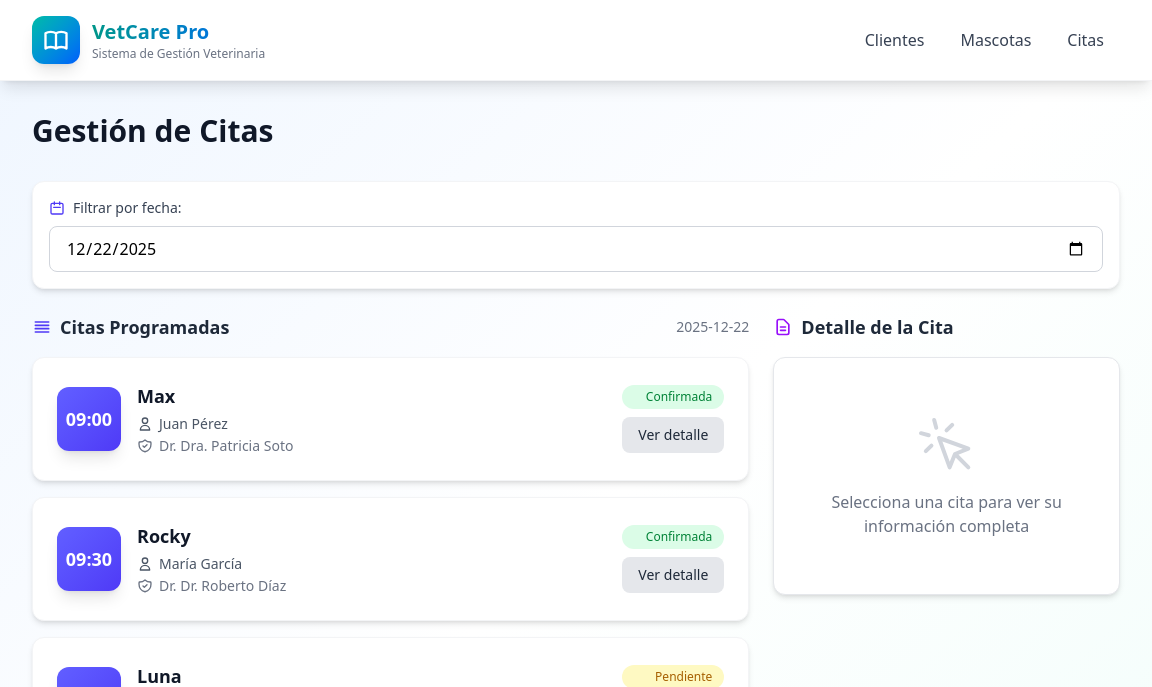
Test: MascotApp E2E Tests › Página de Citas › permite cambiar la fecha
Type "2024-01-01" into the date field at (576, 249), box [49, 226, 1103, 272]
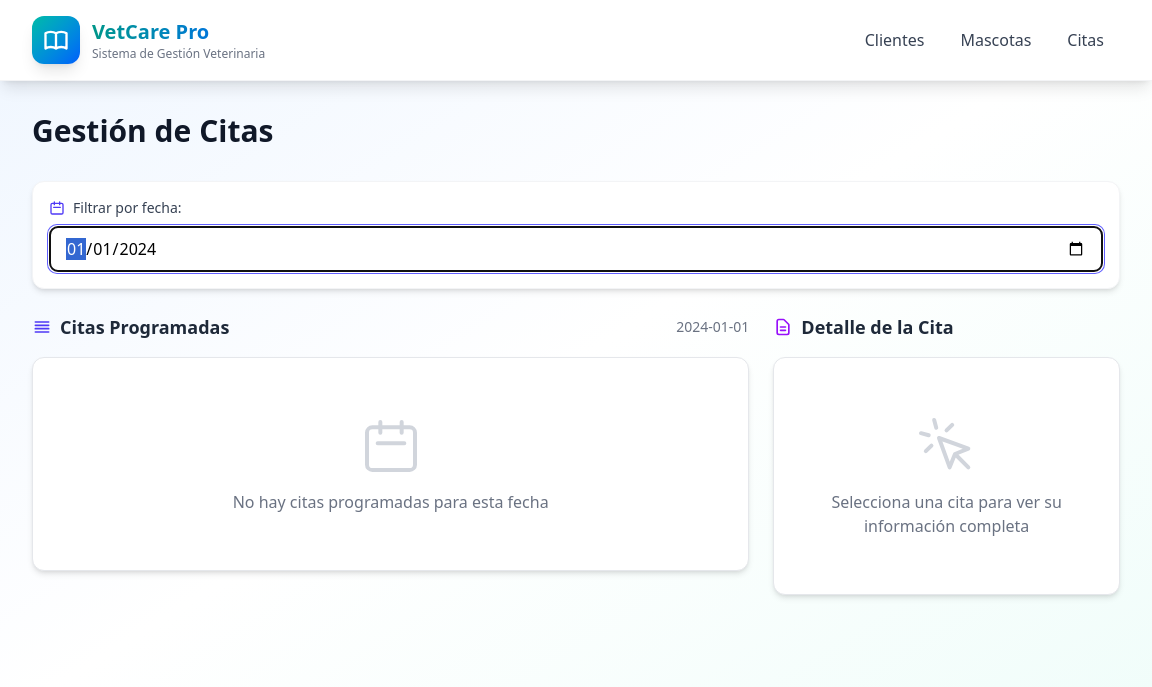
Result: the text "No hay citas programadas para esta fecha" is shown at [233, 491, 549, 513]
